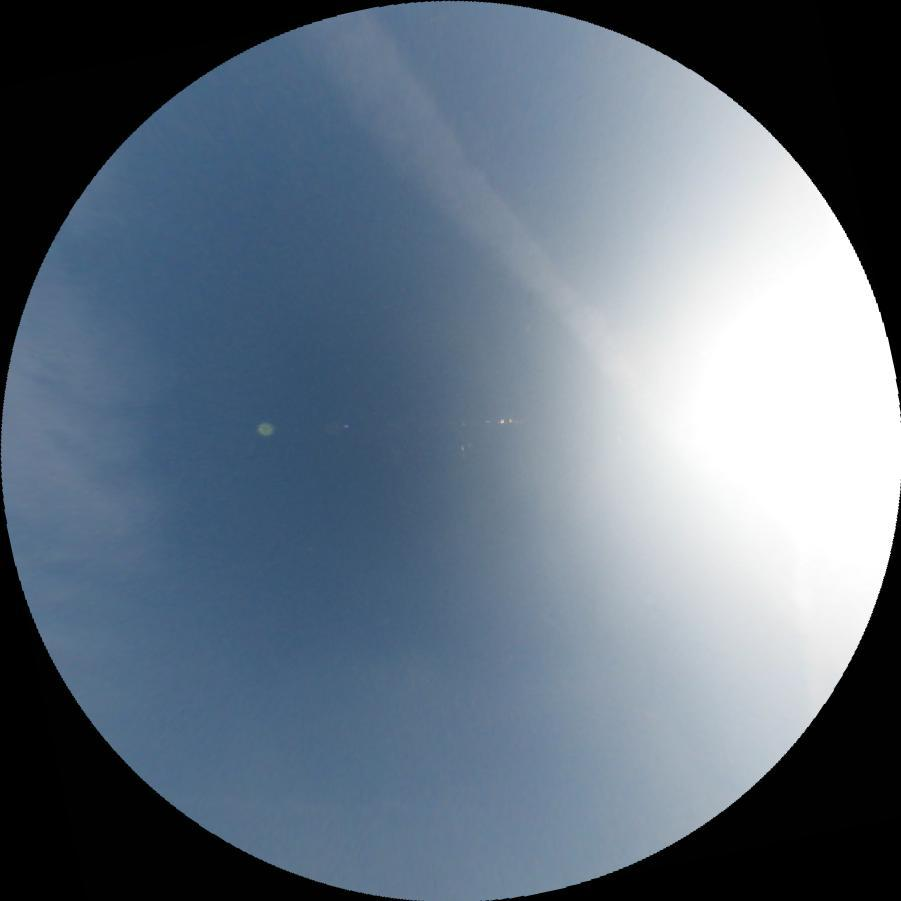contrail veryold: (285, 0, 663, 421)
sun: (675, 297, 901, 556)
